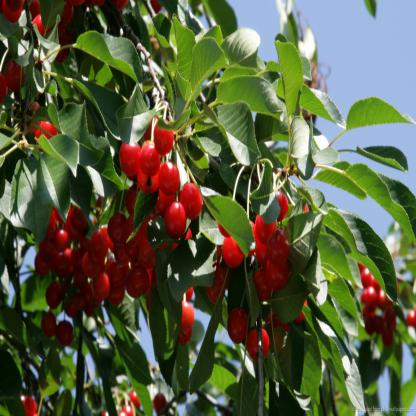cherry leaf: (320, 196, 404, 311), (199, 89, 268, 178), (71, 29, 149, 100), (336, 87, 416, 149), (32, 137, 76, 234), (19, 146, 53, 257), (353, 128, 414, 181)
